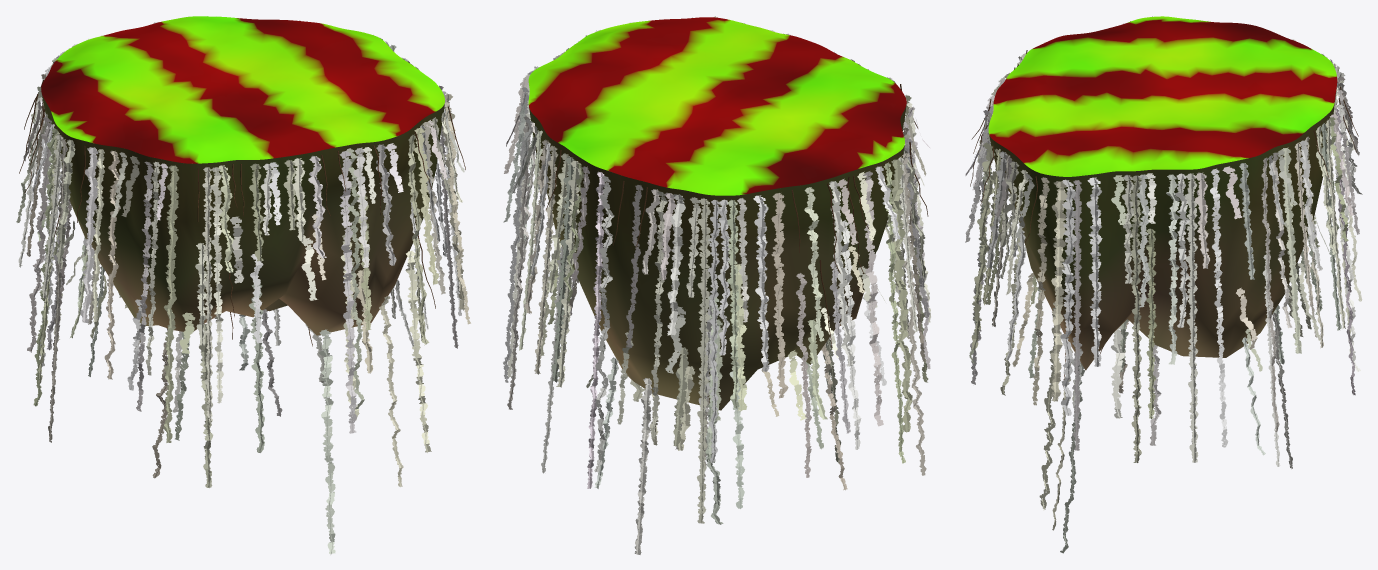
File: SM_H01_Floater02.fbx
3 views of the same model, side by side, from view 1: azimuth 30°, elevation 25°; view 2: azimuth 150°, elevation 25°; view 3: azimuth 270°, elevation 25° (orthographic). The views are drawn at different scales.
Visible parts, largest first — view 1: SM_H01_Floater02, SM_H01_Floater02_Ivy; view 2: SM_H01_Floater02, SM_H01_Floater02_Ivy; view 3: SM_H01_Floater02, SM_H01_Floater02_Ivy.
Boxes of the visible parts, x1,y1,x2,y2 form: SM_H01_Floater02: [41, 16, 444, 335]; SM_H01_Floater02_Ivy: [16, 20, 470, 554]; SM_H01_Floater02: [528, 17, 906, 410]; SM_H01_Floater02_Ivy: [503, 16, 930, 554]; SM_H01_Floater02: [988, 16, 1337, 370]; SM_H01_Floater02_Ivy: [965, 16, 1362, 553].
Size of the model in its own units: 38.86 by 44.26 by 36.38.
